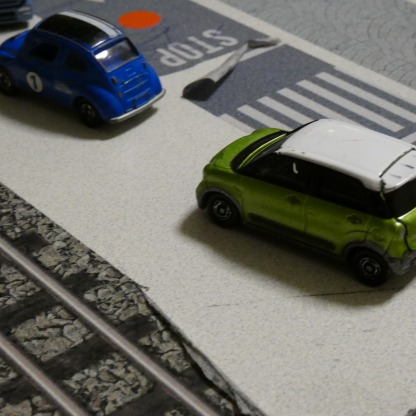car: (198, 114, 416, 288), (0, 12, 163, 139)
